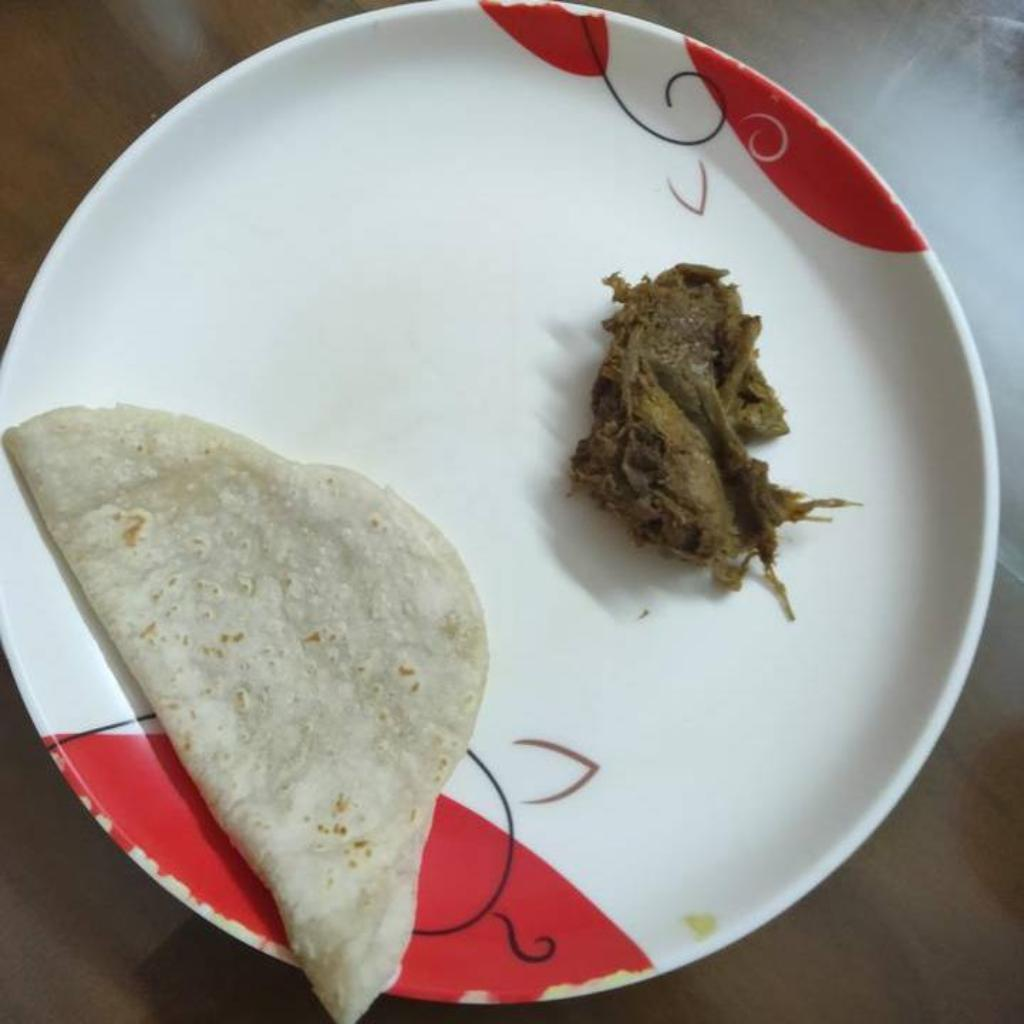ruti: (9, 408, 495, 1021)
vorta: (559, 260, 830, 599)
